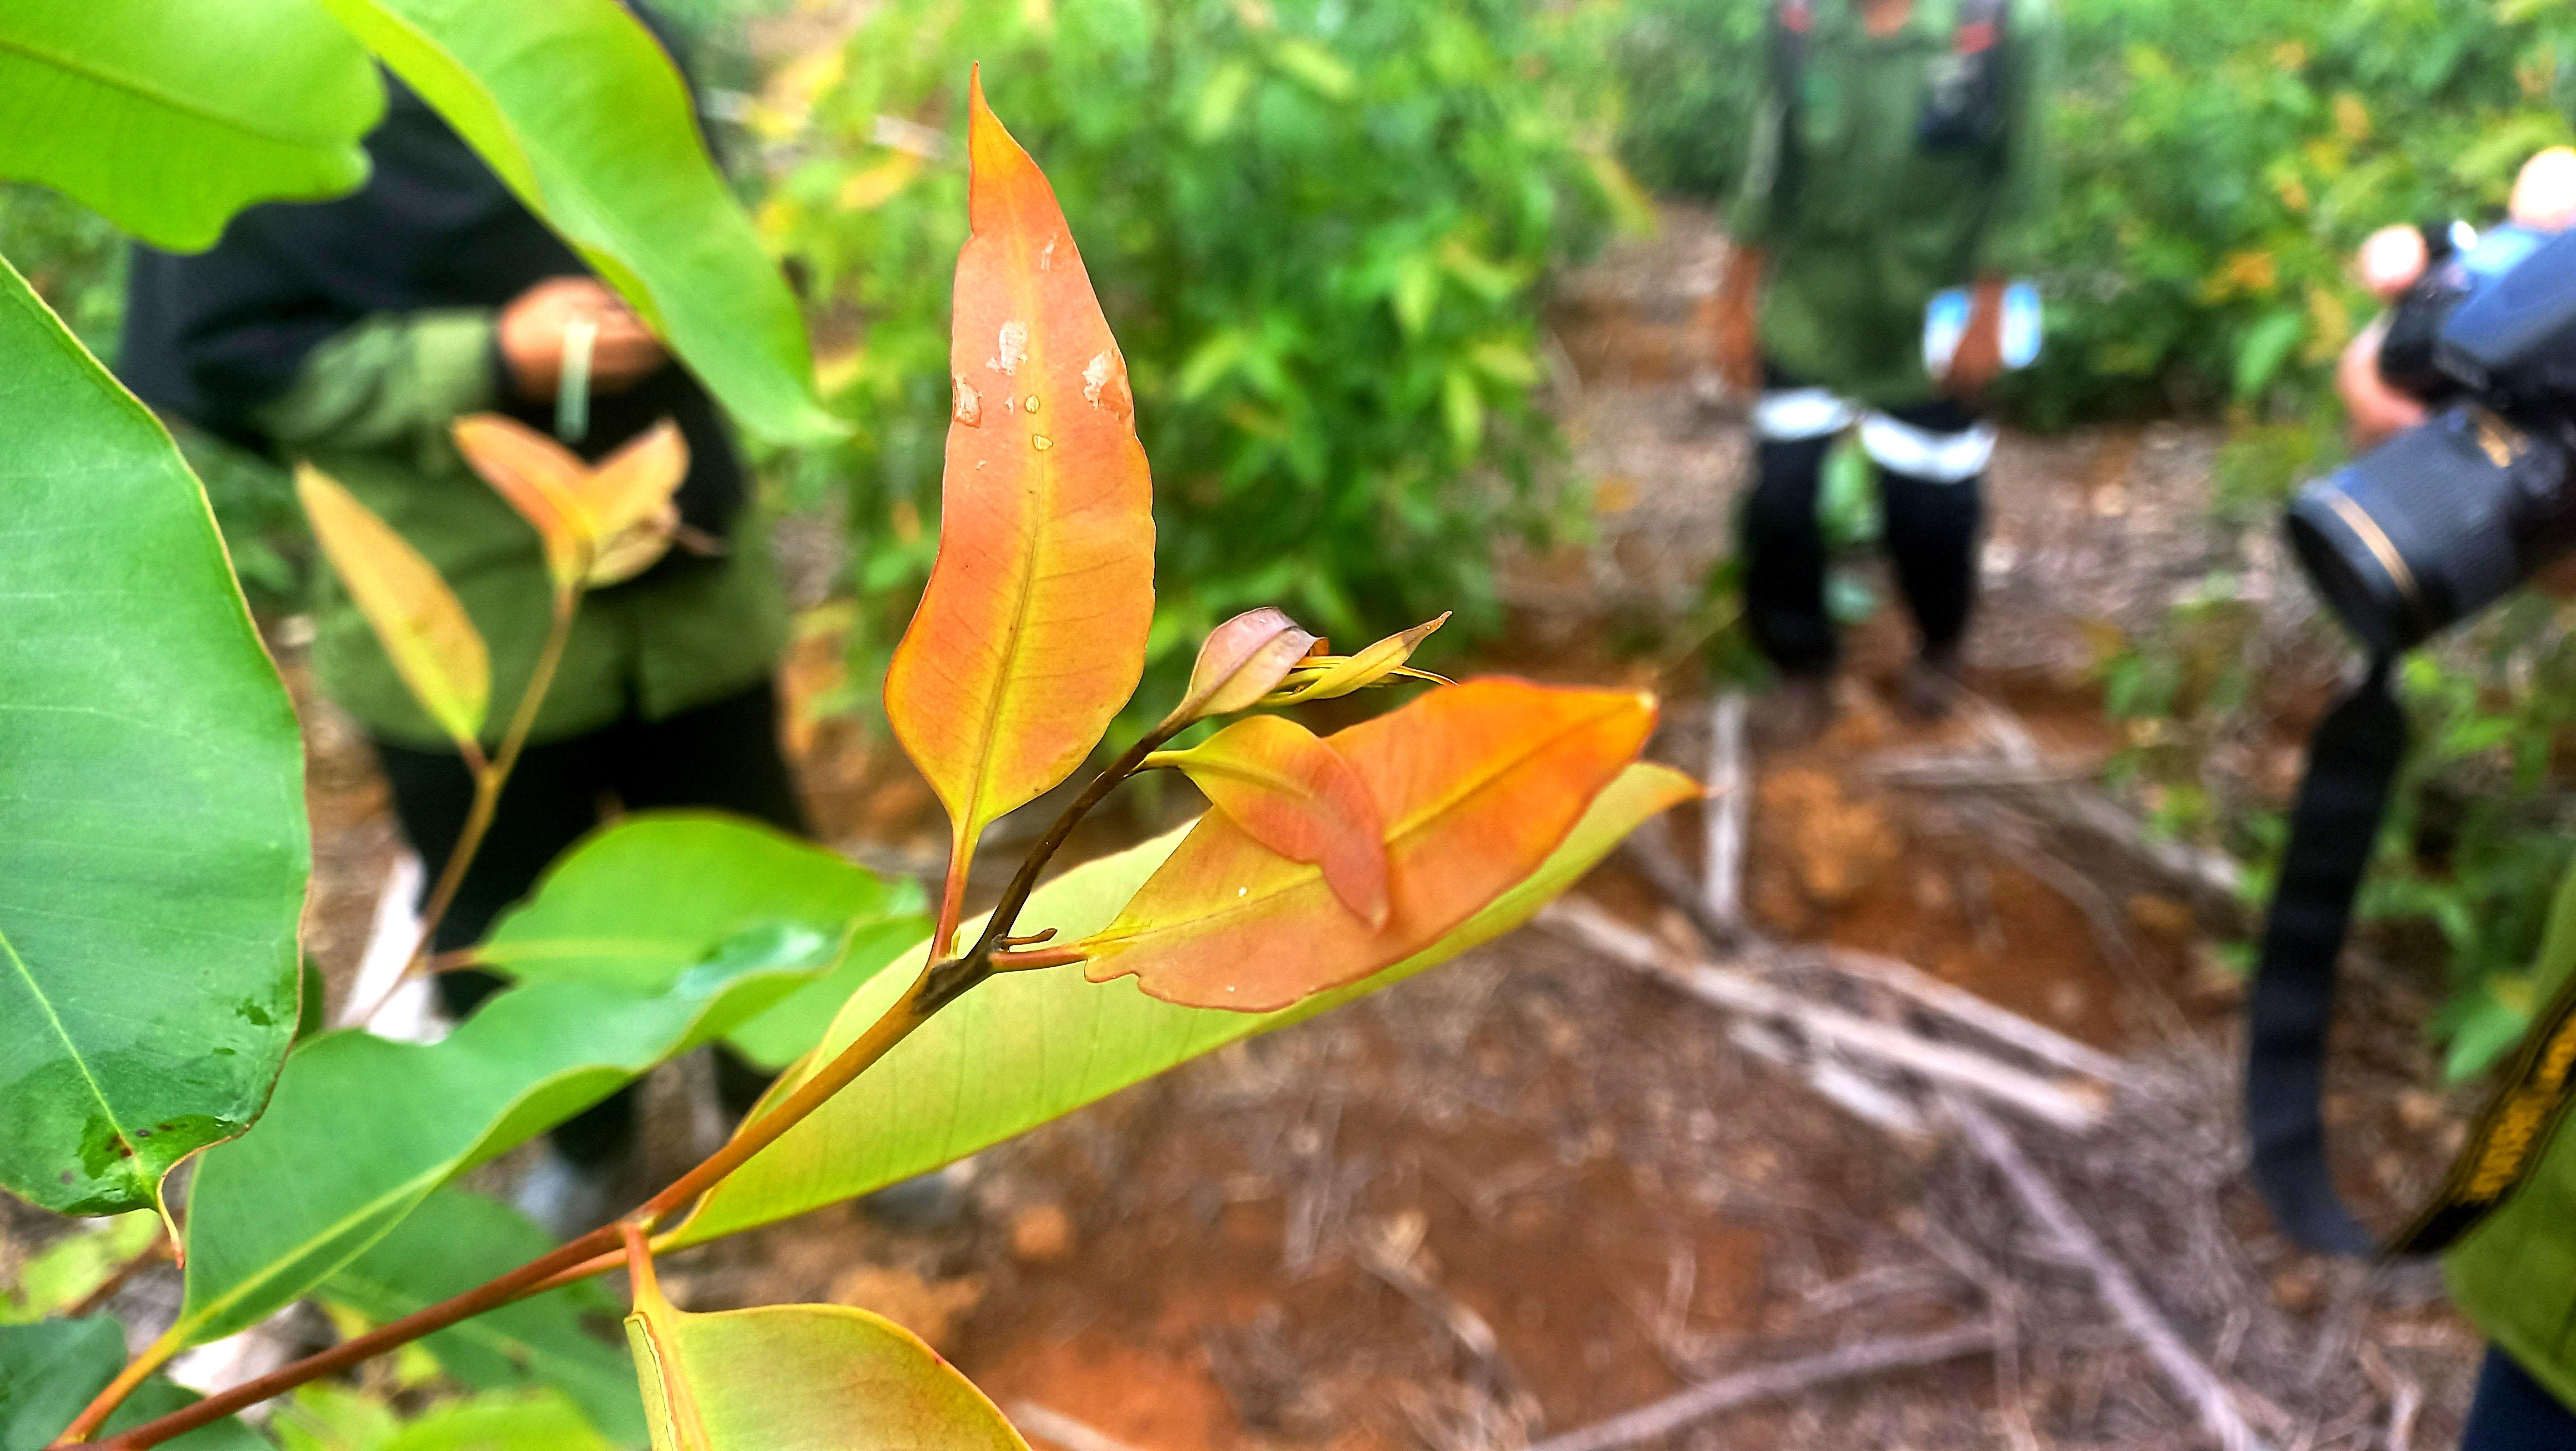Helopeltis-Withered Sprout: (916, 718, 1166, 1017), (1184, 577, 1323, 725), (1267, 602, 1458, 701)
